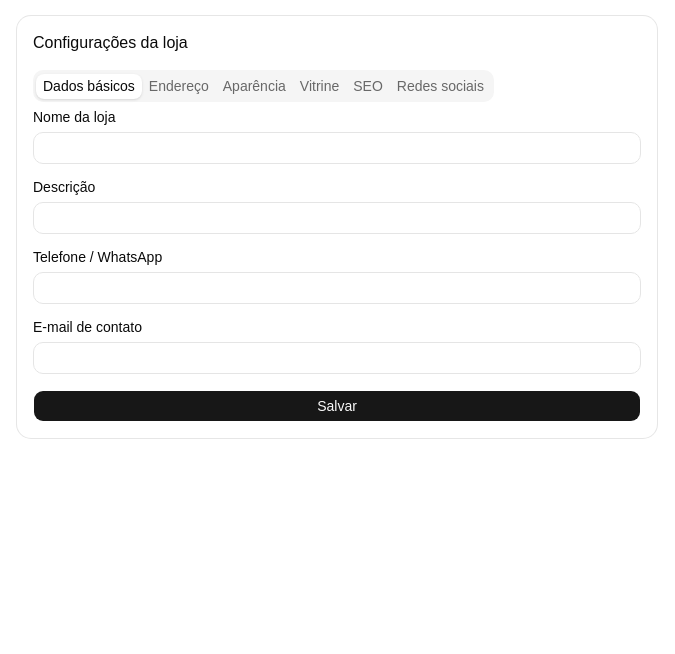
Test: ConfiguracoesPage › mostra o switch de vitrine pública desabilitado quando não há slug
Check: the field labelled "Nome da loja" is shown, box [33,132,641,164]
Click the tab "Vitrine" at x=320, y=86, box [293,74,346,98]
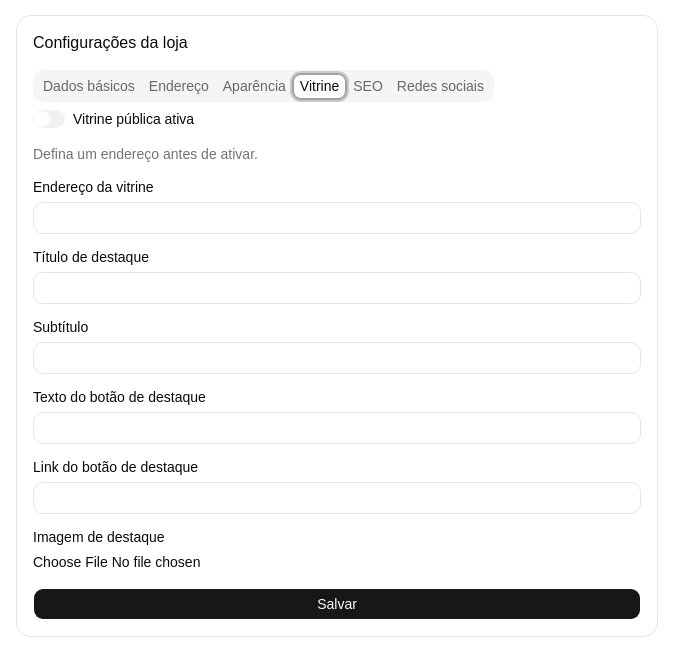
Check: the text "Defina um endereço antes de ativar." is shown, box [33,146,258,162]
